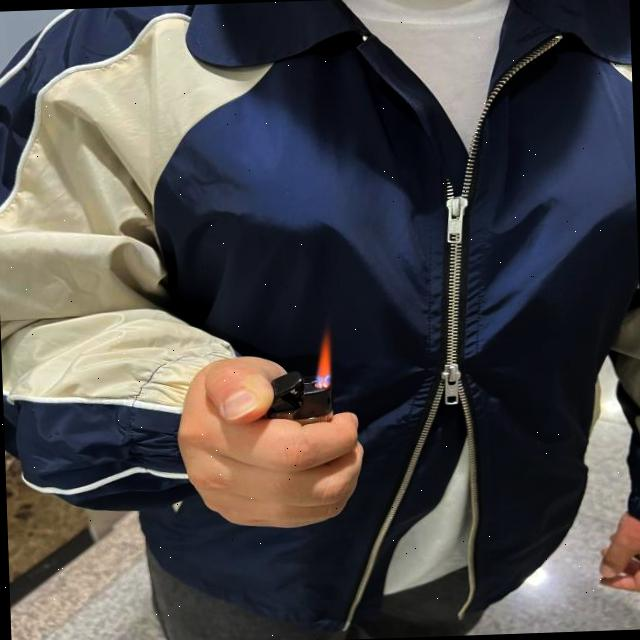fire: (312, 328, 332, 378)
